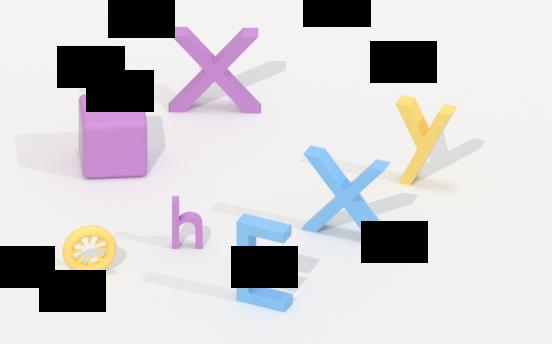E-hoa: (230, 207, 295, 316)
Y: (393, 93, 461, 193)
h: (168, 192, 204, 255)
hop: (75, 91, 153, 182)
tron: (60, 223, 120, 279)
x: (301, 143, 394, 249), (167, 23, 264, 123)
